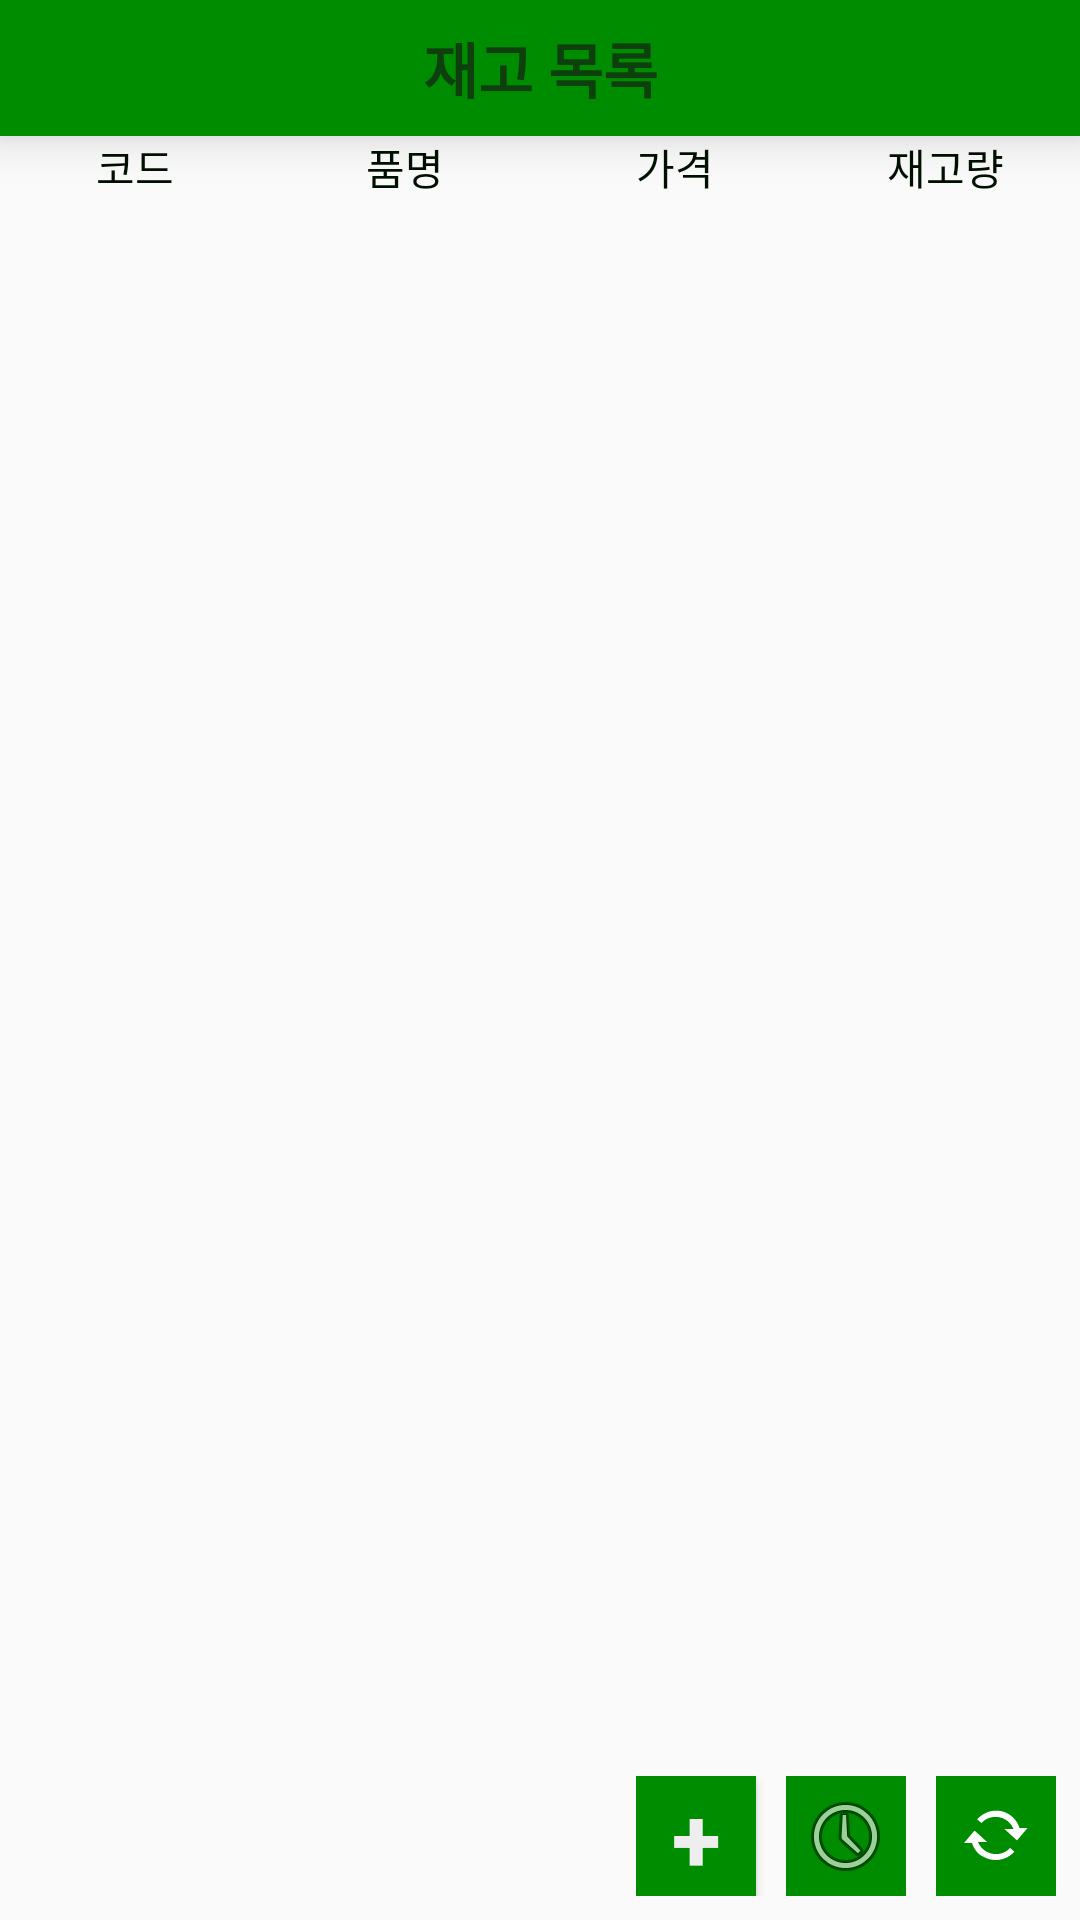

Screen size 1080 x 1920. Icon name, then its center in pixels as (x,y):
recent history: (846,1836)
sync noanim: (996,1836)
